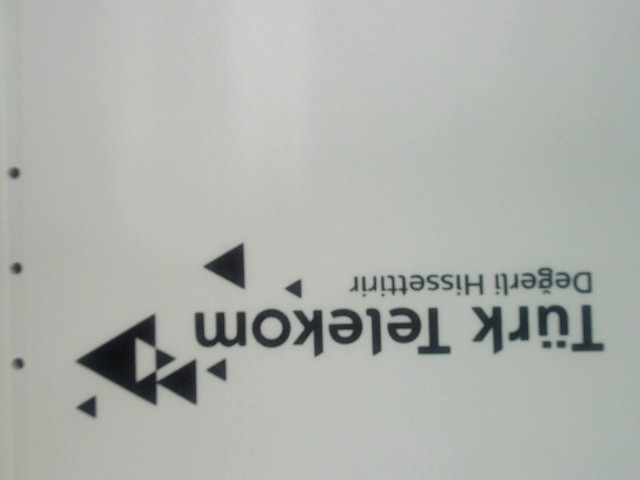AQ_TURKTelekom: (61, 240, 615, 423)
